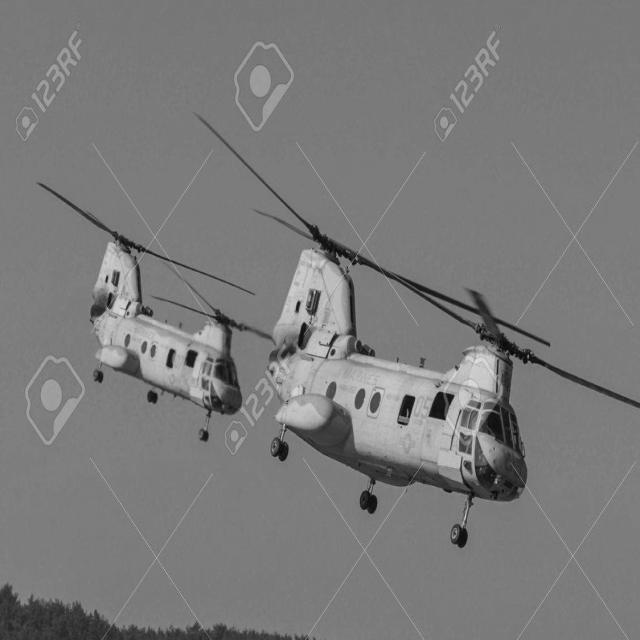helicopter: (198, 115, 640, 558), (35, 187, 275, 441)
